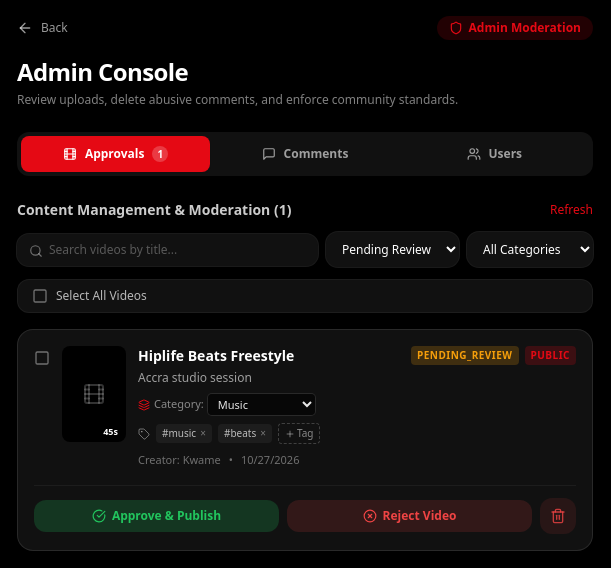
Test: AdminDashboard Component › allows switching to users tab and banning a user
Later steps or results of the test are not shown.
Expected: the heading "Hiplife Beats Freestyle" is shown, top-left (138, 346), bottom-right (294, 366)
Click the button "Users": (494, 154) top-left (400, 136), bottom-right (589, 172)
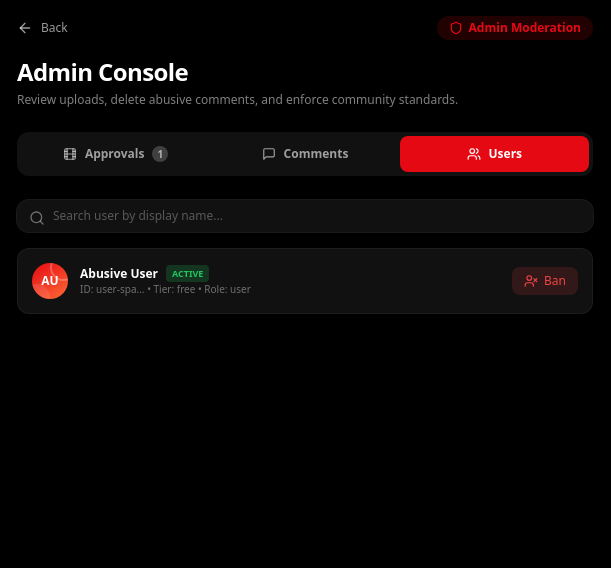
Expected: the text "Abusive User" is shown, top-left (80, 266), bottom-right (158, 282)
